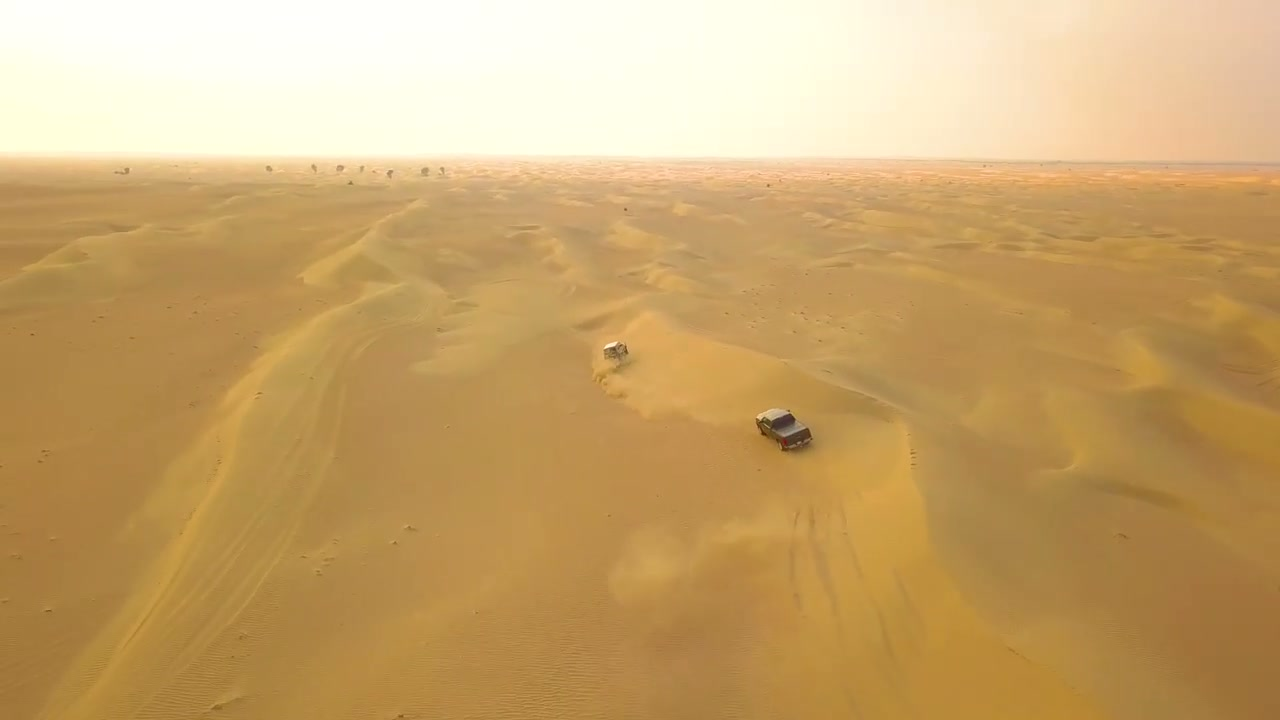vehicle_track: (104, 300, 384, 706)
